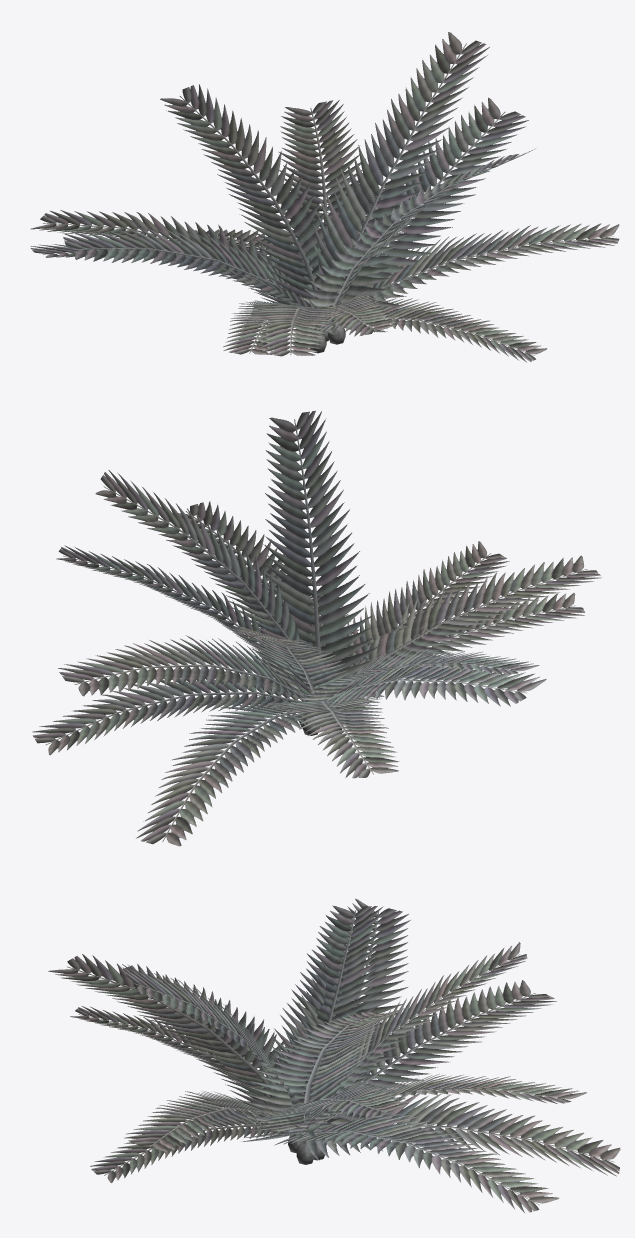
File: palm_l0.gltf
3 renders of one model, top to bottom at view 1: azimuth 30°, elevation 25°; view 2: azimuth 150°, elevation 25°; view 3: azimuth 270°, elevation 25°, orthographic. The views are drawn at different scales.
Visible parts, largest first — view 1: palm_l0; view 2: palm_l0; view 3: palm_l0.
Part boxes in pixels (left/top/right/bottom): palm_l0: left=30, top=32, right=619, bottom=362; palm_l0: left=32, top=410, right=601, bottom=846; palm_l0: left=48, top=898, right=620, bottom=1212.
Bounding box in the file's own units: 9.05 × 4.3 × 9.26.
Materials: 1 (1 with a texture image).
